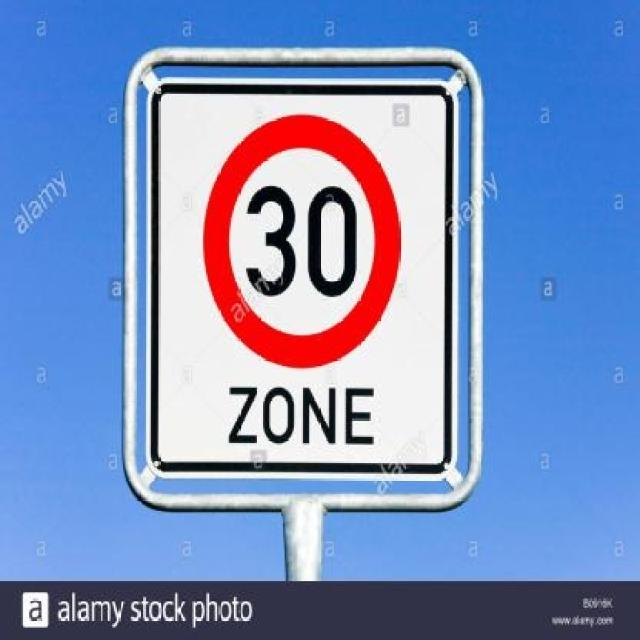forb_speed_over_30: (206, 108, 403, 361)
